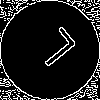L: (25, 25, 78, 75)
